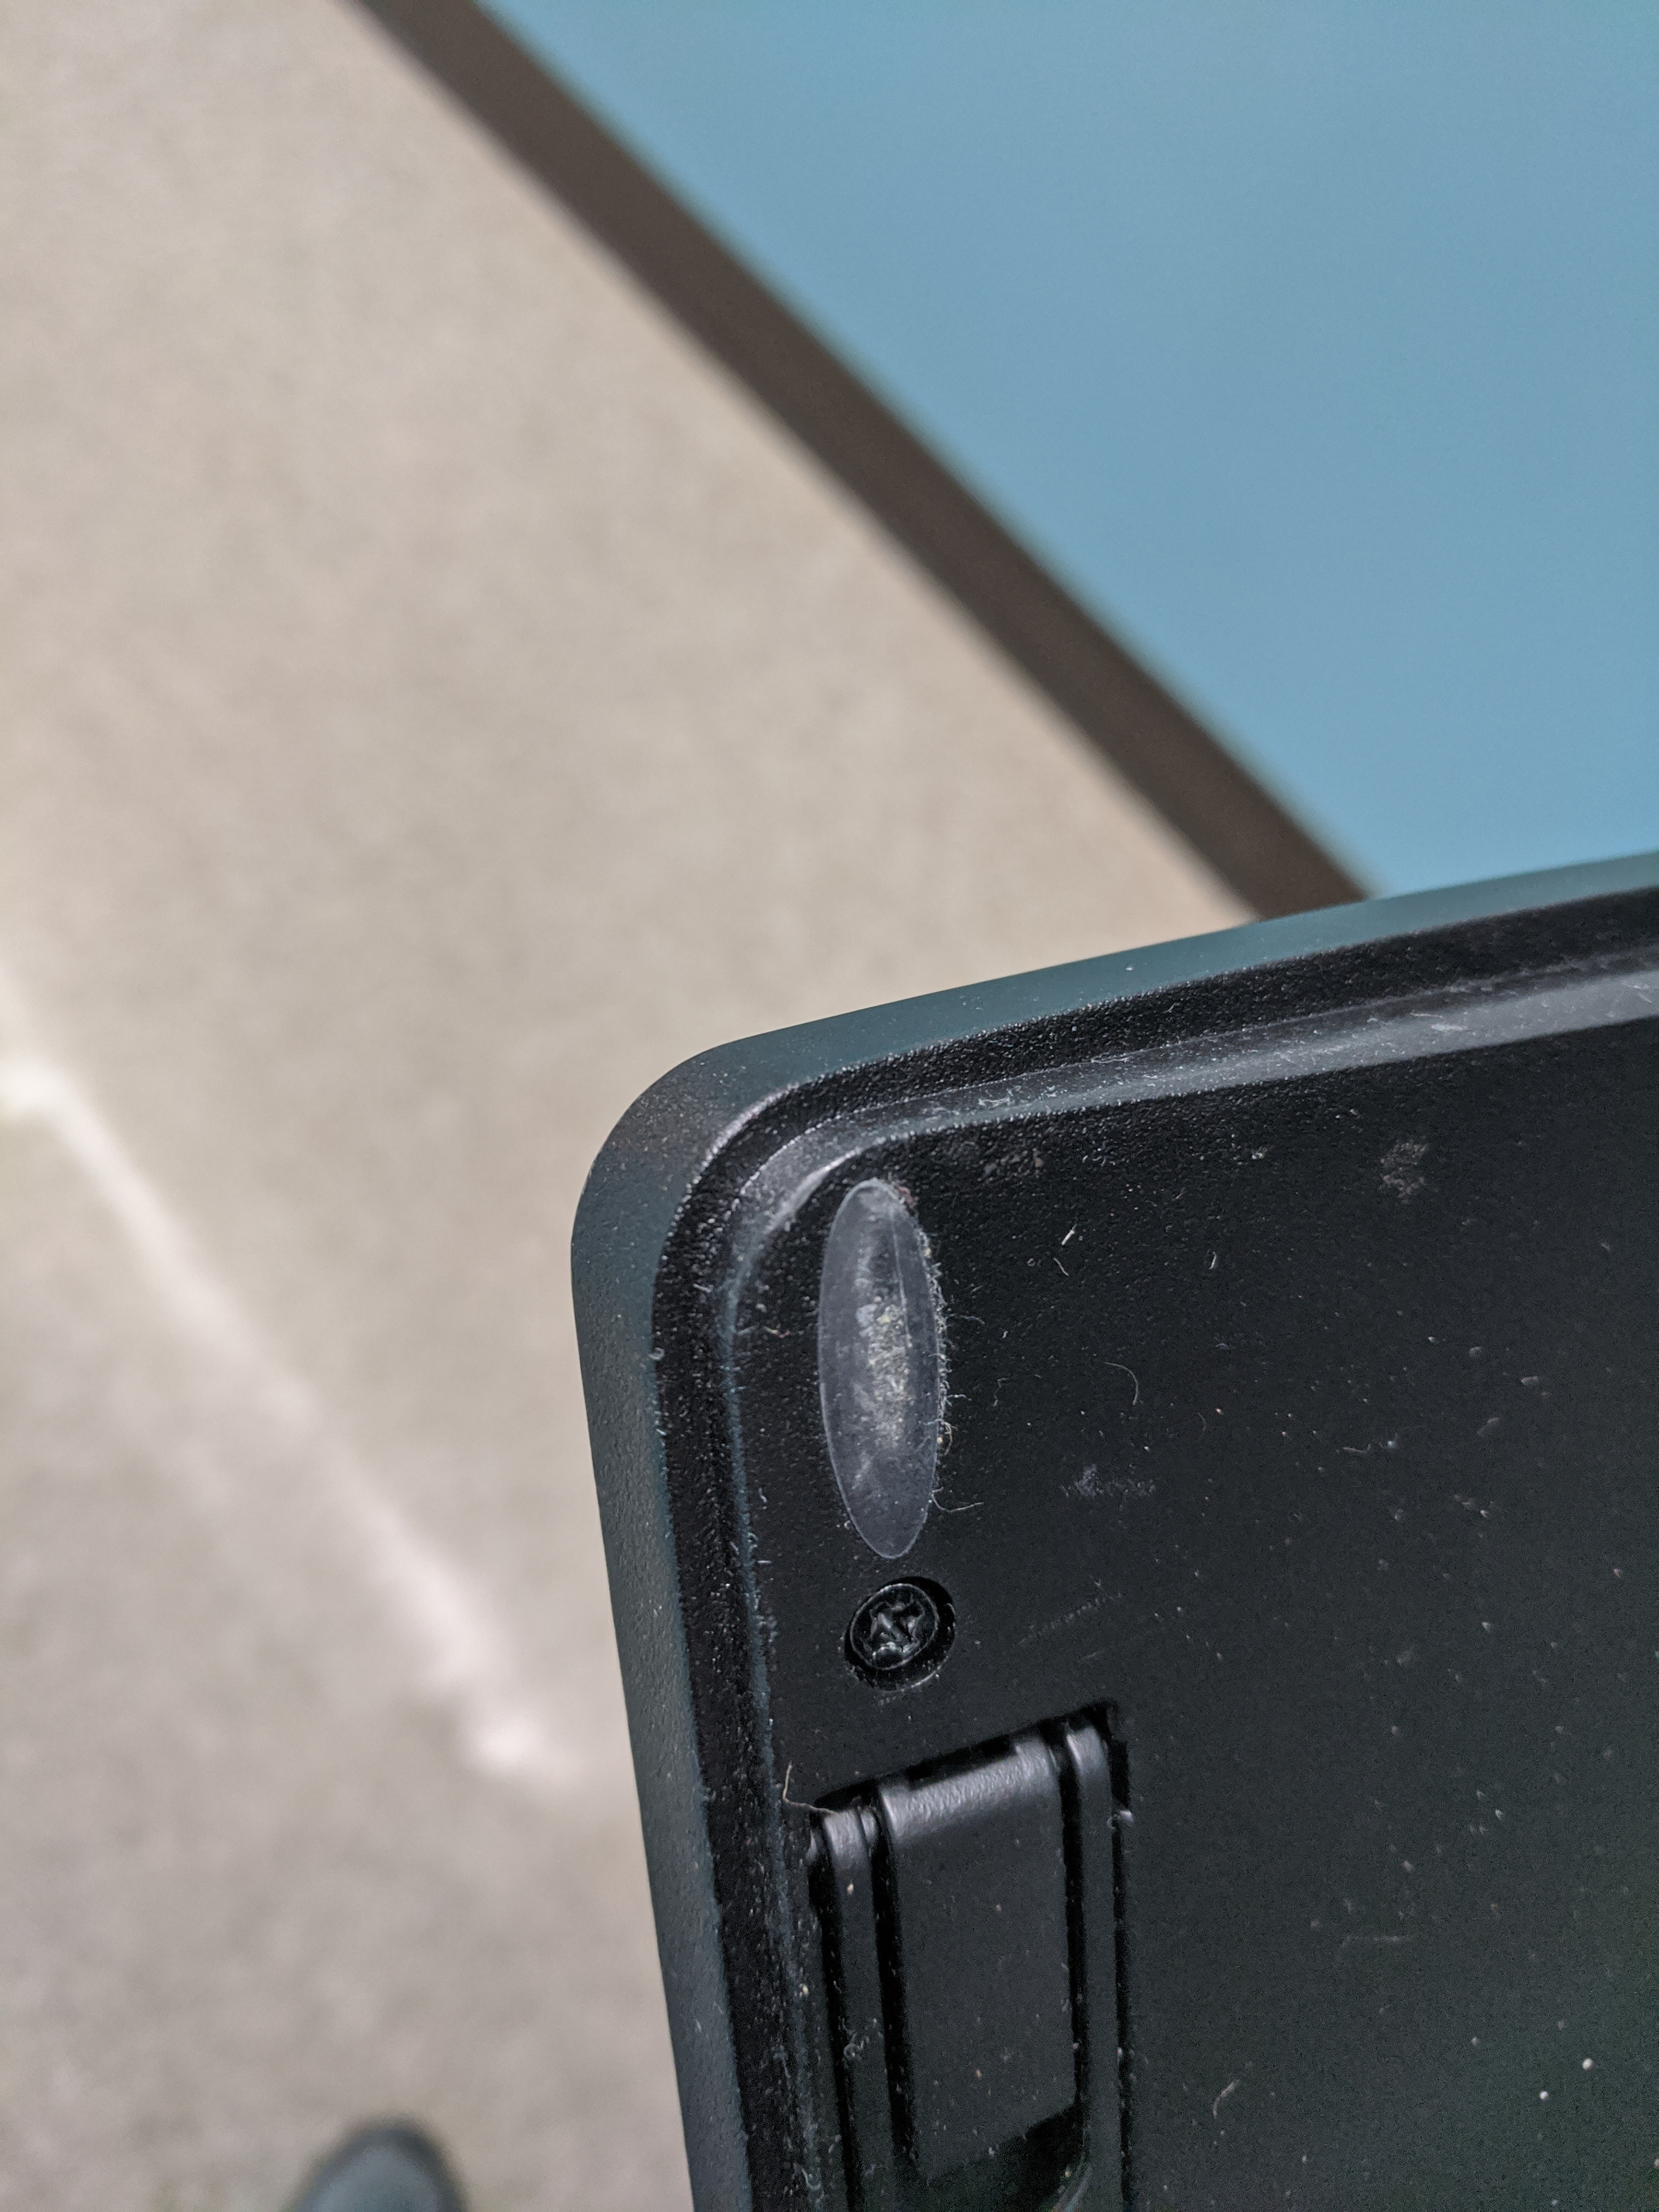cross_recessed_screw: (833, 1564, 953, 1676)
